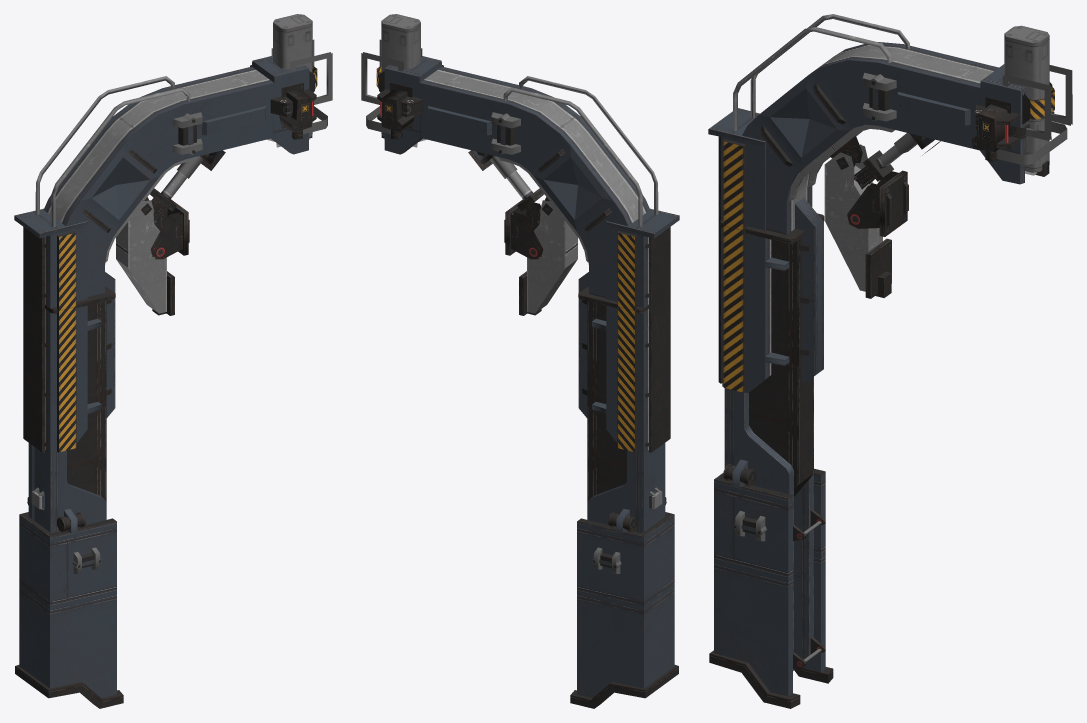
The model's file is Crane_2B_L2.fbx.
The picture shows the model from 3 angles, left to right: view 1: azimuth 30°, elevation 25°; view 2: azimuth 150°, elevation 25°; view 3: azimuth 330°, elevation 25°; orthographic projection. The views are drawn at different scales.
Visible parts, largest first — view 1: Crane_2B_L2; view 2: Crane_2B_L2; view 3: Crane_2B_L2.
Part boxes in pixels (x1=…): Crane_2B_L2: x1=14, y1=14, x2=332, y2=708; Crane_2B_L2: x1=361, y1=14, x2=679, y2=708; Crane_2B_L2: x1=708, y1=14, x2=1072, y2=708.
Bounding box in the file's own units: 369 × 741 × 105.
